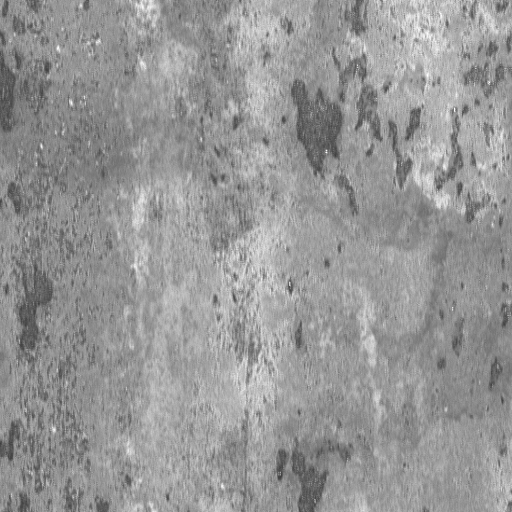xingxingliewen: (289, 53, 422, 190)
